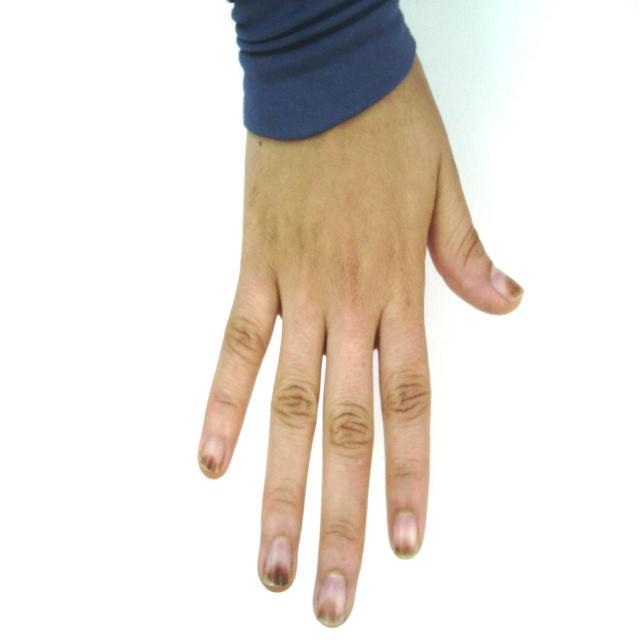Fingernail: (316, 571, 346, 627), (263, 538, 292, 588), (394, 511, 419, 558), (492, 268, 523, 302), (201, 438, 224, 472)
